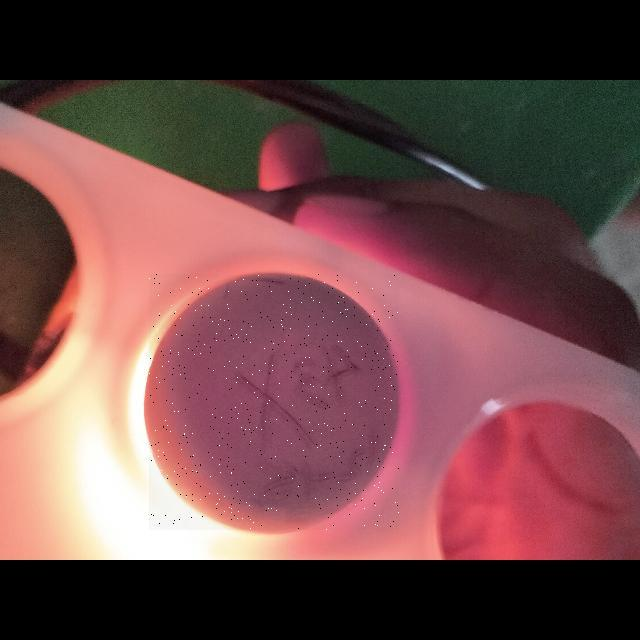Fertile: (149, 274, 399, 530)
